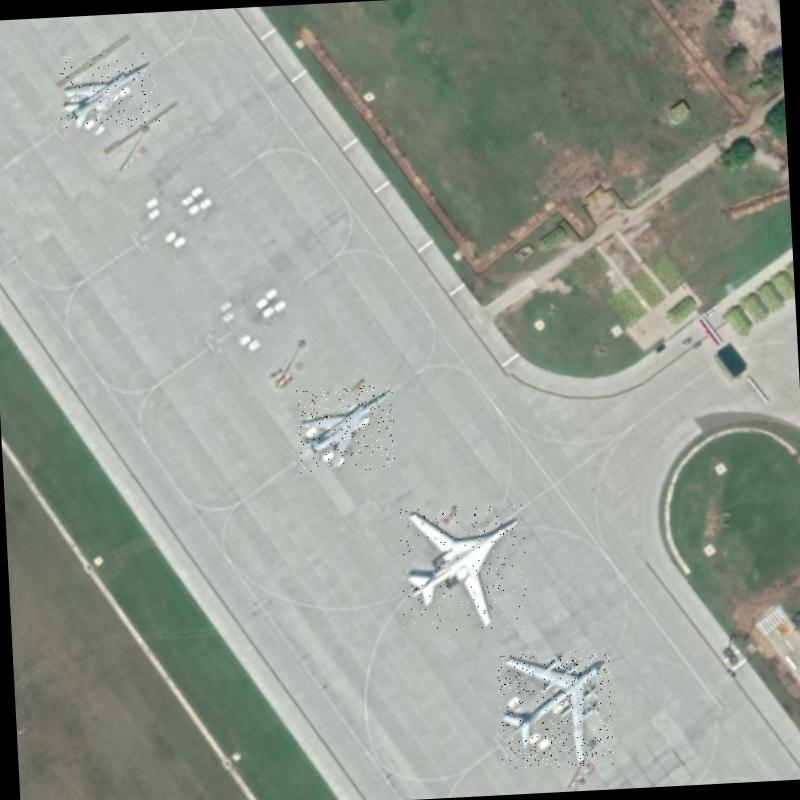A12: (296, 384, 399, 474), (58, 52, 160, 134)
A17: (496, 648, 614, 770)
A6: (398, 503, 529, 633)
